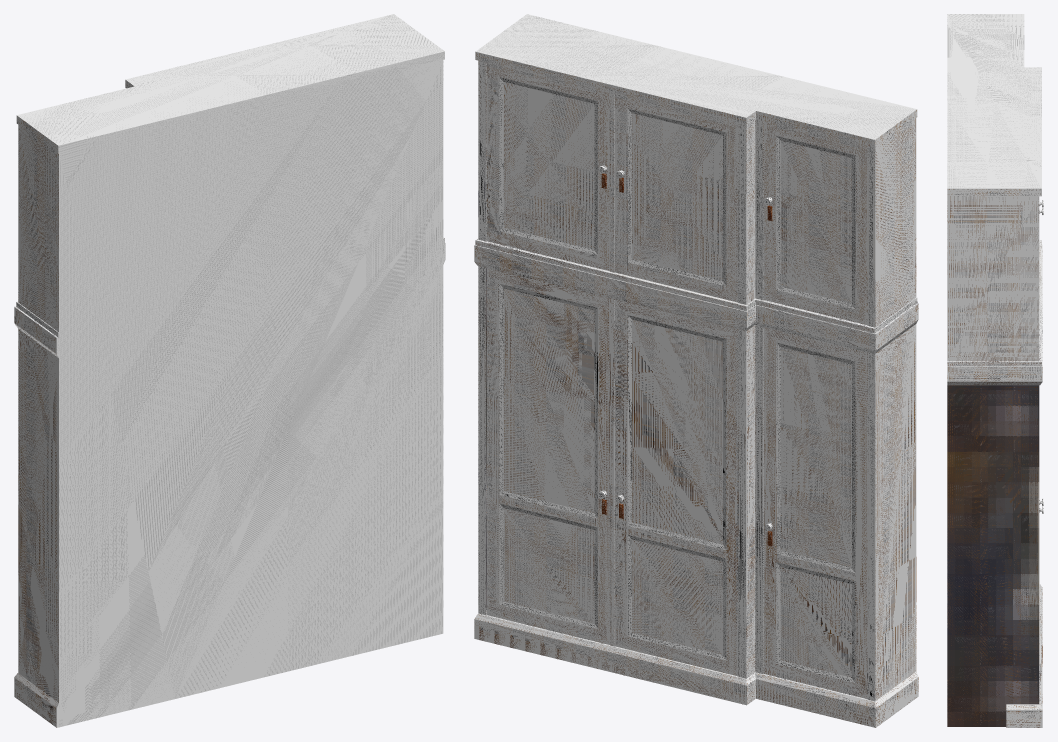
3 views of the same model, side by side, from view 1: azimuth 30°, elevation 25°; view 2: azimuth 150°, elevation 25°; view 3: azimuth 270°, elevation 25° (orthographic). The views are drawn at different scales.
Parts seen in each view (by area): view 1: mesh8_mesh8-geometry; view 2: mesh8_mesh8-geometry; view 3: mesh8_mesh8-geometry.
Part boxes in pixels (x1,y1,x2,y2): mesh8_mesh8-geometry: (14, 14, 445, 727); mesh8_mesh8-geometry: (474, 14, 918, 727); mesh8_mesh8-geometry: (947, 14, 1042, 727).
Bounding box in the file's own units: 0.5683 × 0.8122 × 0.1319.
